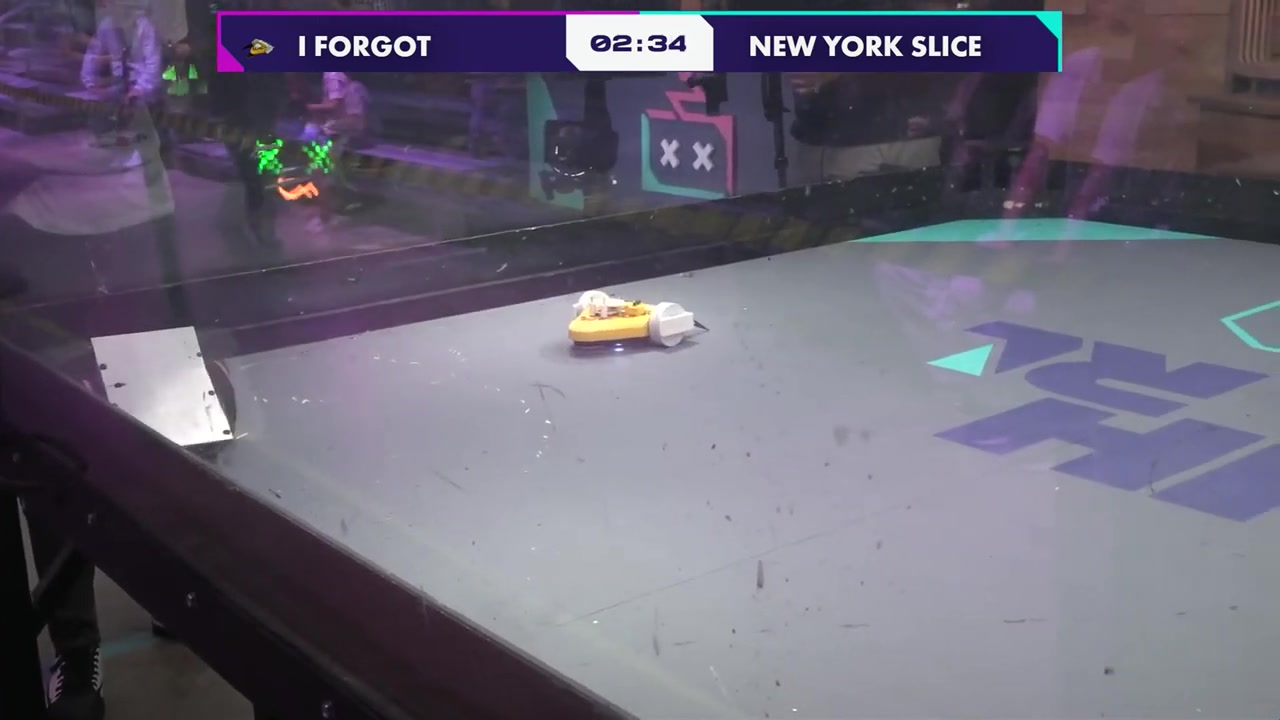combatbot: (87, 321, 241, 454), (564, 289, 695, 351)
housebot: (237, 123, 351, 205)
